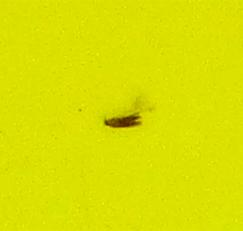Trichoptera: (100, 100, 143, 131)
